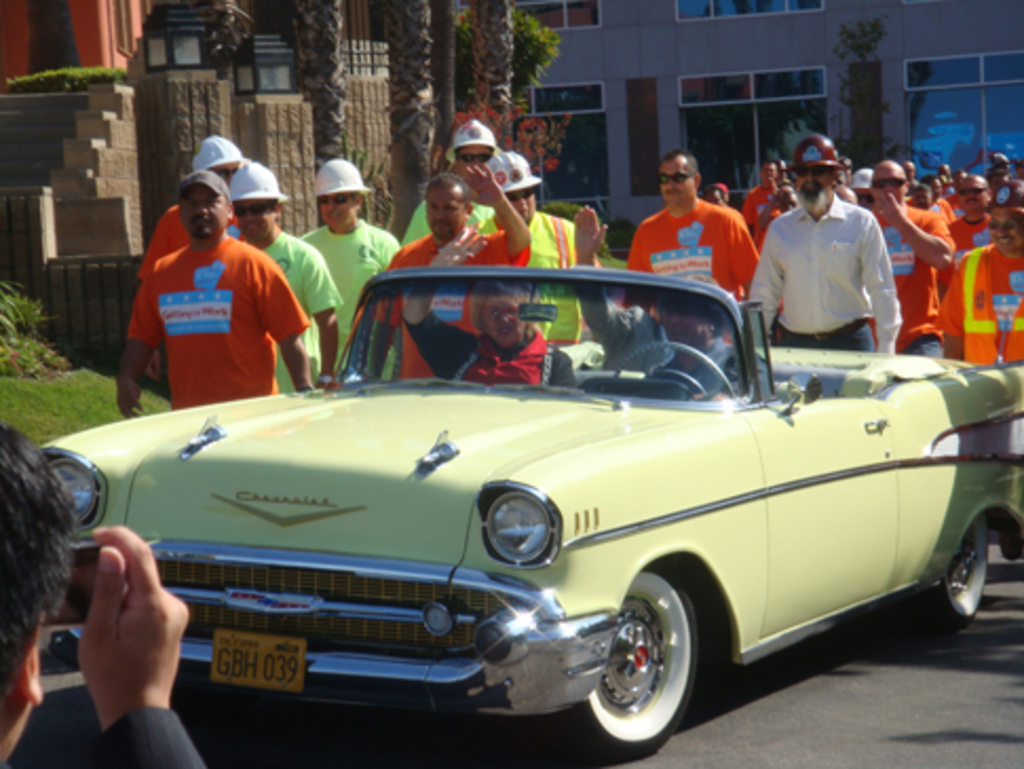Car: (18, 266, 1024, 755)
